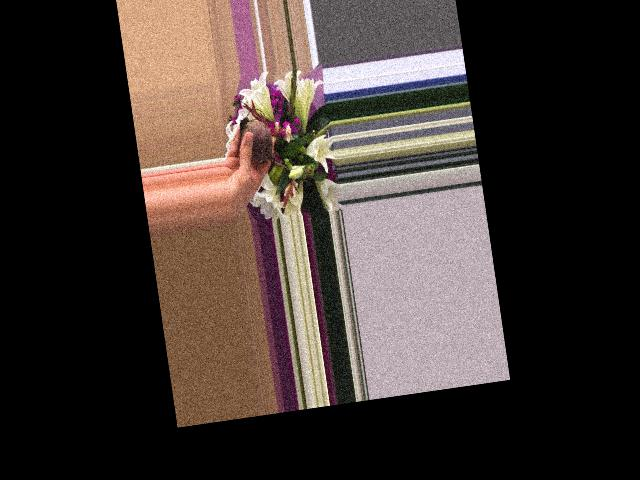beet: (236, 103, 298, 176)
